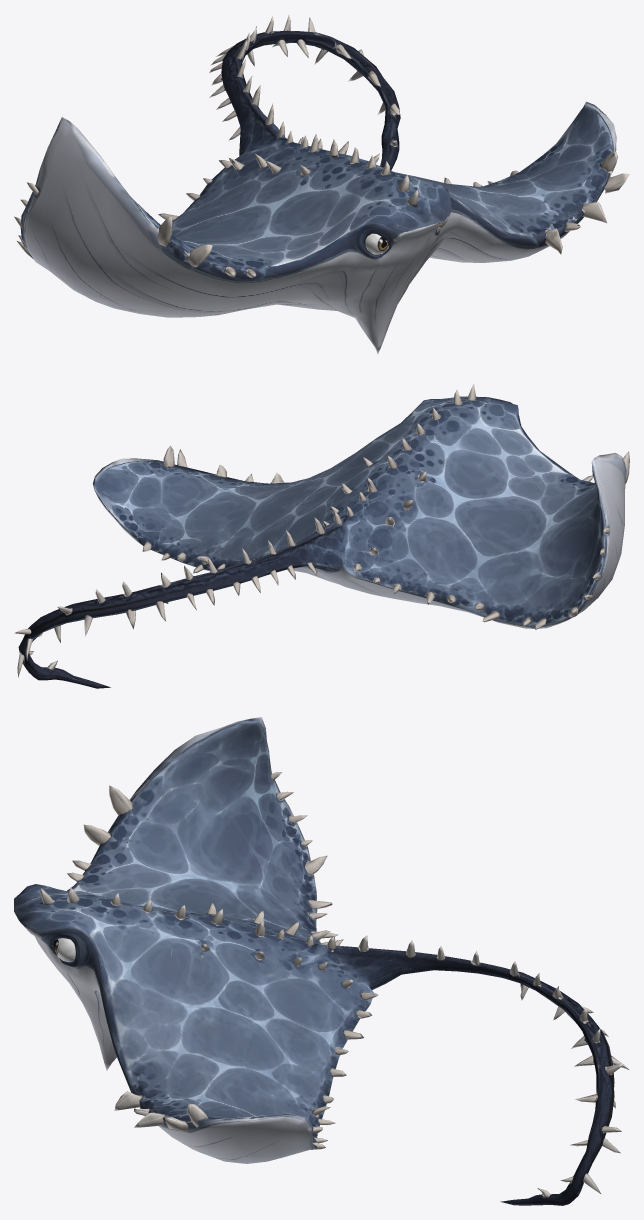
Rendered from Stingray.glb.
The picture shows the model from 3 angles, top to bottom: view 1: azimuth 30°, elevation 25°; view 2: azimuth 150°, elevation 25°; view 3: azimuth 270°, elevation 25°; orthographic projection. The views are drawn at different scales.
Size of the model in its own units: 1 by 0.4609 by 0.9336.
Materials: 1 (1 with a texture image).
